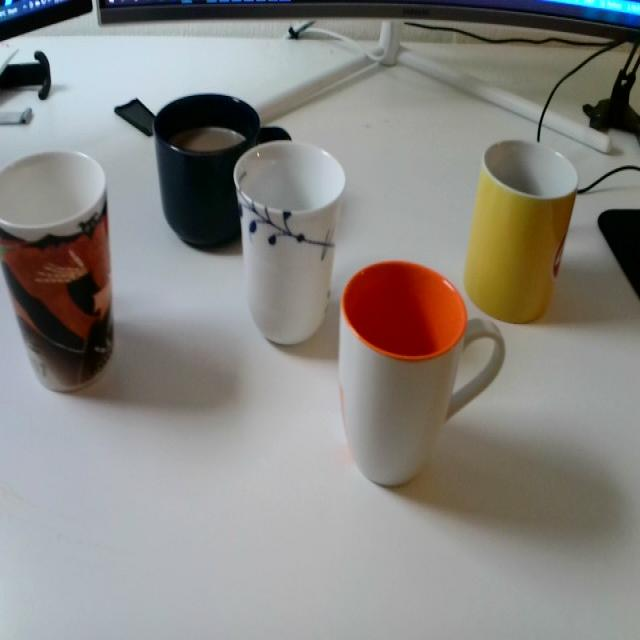Cocio Cup: (462, 140, 580, 324)
Cup: (150, 92, 266, 249)
Halloween cup: (0, 148, 117, 393)
Hand painted cup: (235, 140, 346, 348)
White Cup: (334, 258, 510, 493)
